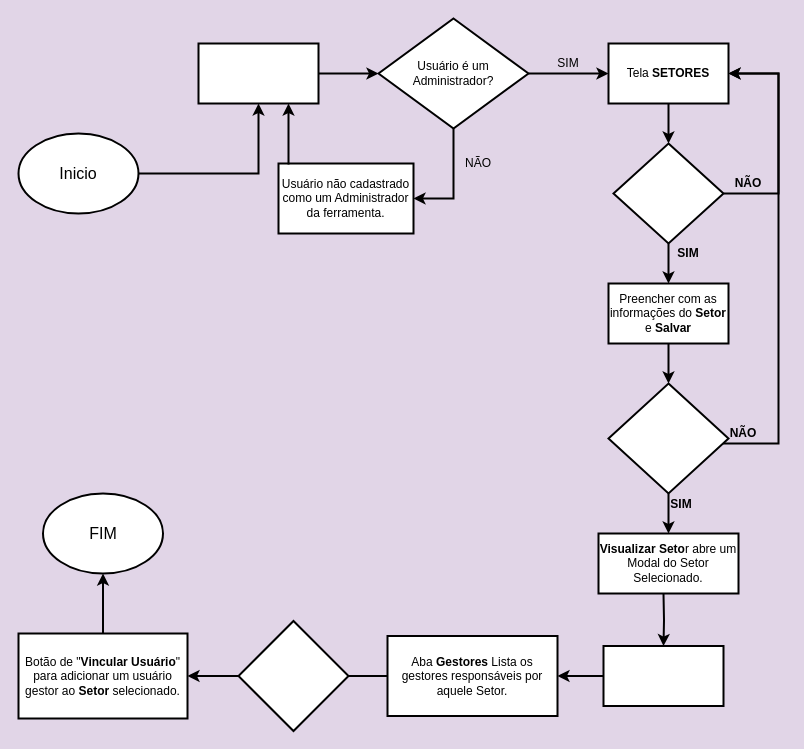
This 804x749 diagram has some shape labels left out. The centre of each missing label's shape, as x and y in pixels:
Aba Setor para editar o Setor selecionado.: point 663,675
Botão " CADASTRAR SETOR "?: point 668,193
Botão Vincular Usuário ?: point 293,676
Botão Visualizar ?: point 668,438
Login na Aplicação: point 258,73
